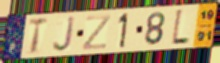1: (116, 13, 129, 49)
8: (144, 11, 167, 46)
J: (52, 15, 77, 54)
L: (170, 8, 191, 47)
T: (28, 16, 50, 56)
Z: (80, 14, 113, 52)
